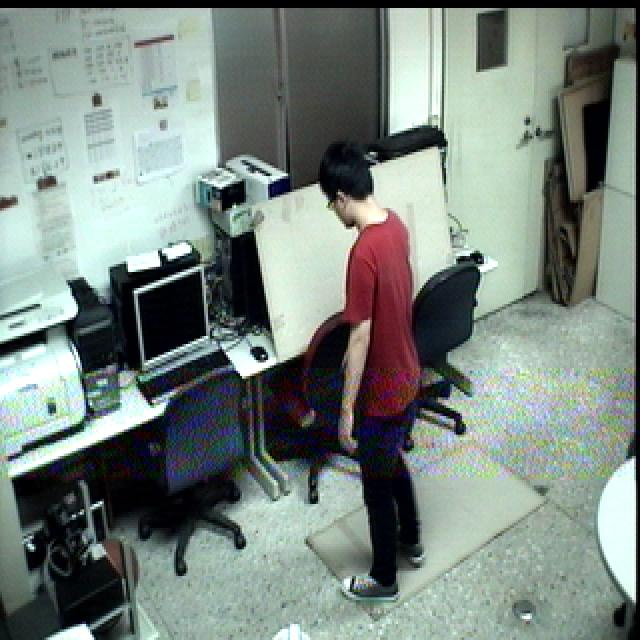stand: (306, 131, 443, 616)
